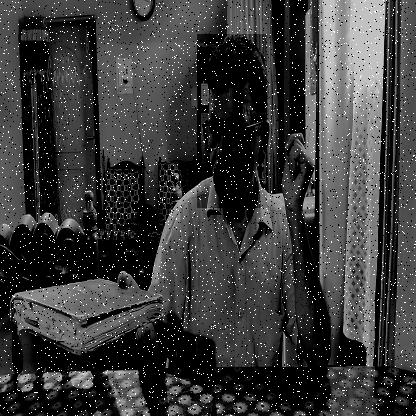Distracted: (197, 34, 267, 208)
